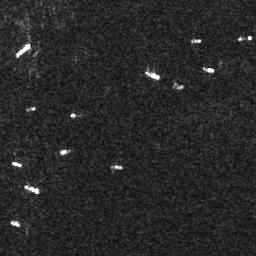ship: (15, 42, 31, 56), (24, 183, 41, 195), (143, 70, 161, 81), (203, 65, 216, 74), (237, 35, 253, 42), (110, 163, 122, 171), (11, 219, 22, 227), (12, 160, 22, 168), (191, 37, 201, 44), (60, 148, 69, 155), (26, 106, 36, 112)
